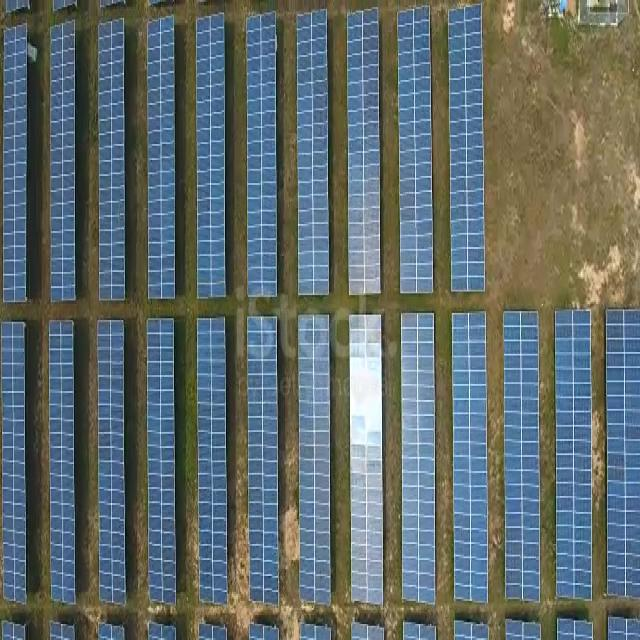Solar-panels: (505, 314, 544, 604), (557, 311, 595, 599), (450, 8, 485, 294), (402, 8, 436, 298), (352, 315, 386, 605), (402, 314, 436, 601), (299, 315, 332, 607), (455, 314, 488, 605), (195, 15, 228, 299), (300, 14, 333, 296), (608, 312, 640, 598), (246, 16, 278, 300), (199, 317, 229, 605), (350, 13, 380, 298), (148, 322, 177, 605), (98, 21, 127, 299), (251, 318, 279, 605), (149, 19, 176, 299), (100, 320, 127, 600), (2, 23, 29, 299), (50, 25, 77, 299), (3, 326, 26, 603), (52, 324, 75, 600)
